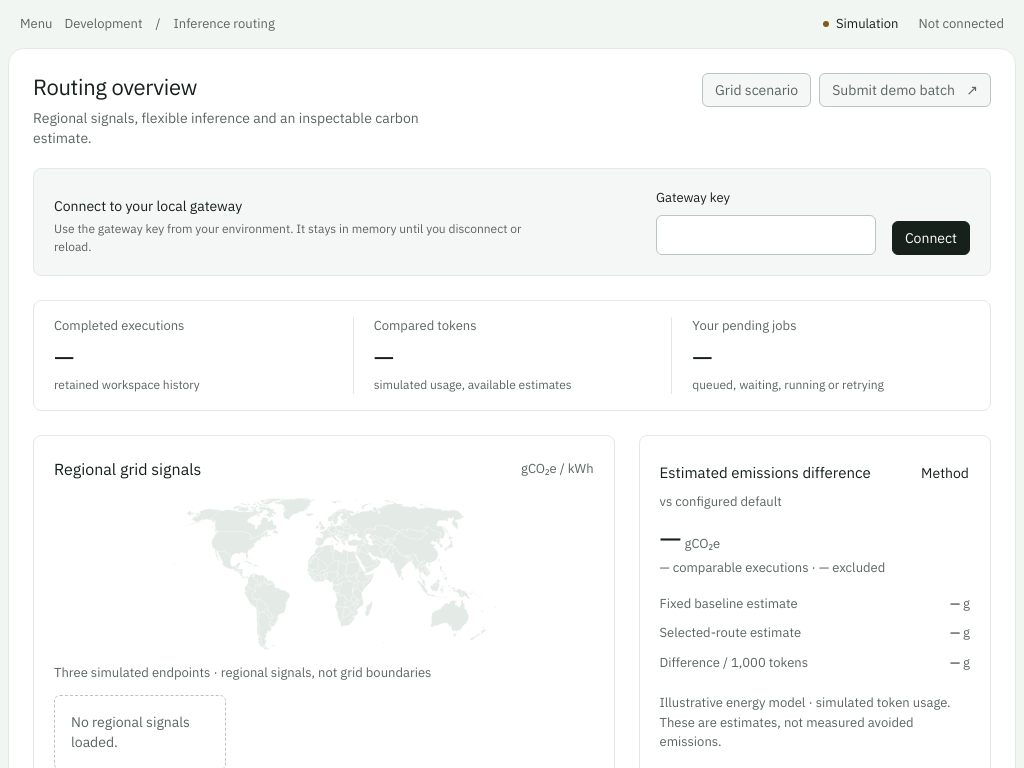
Test case: dashboard › reuses keys and bodies when a batch submission is unconfirmed
Type "test-client-key" into the password field labelled "Gateway key" at (766, 235), box [656, 215, 876, 255]
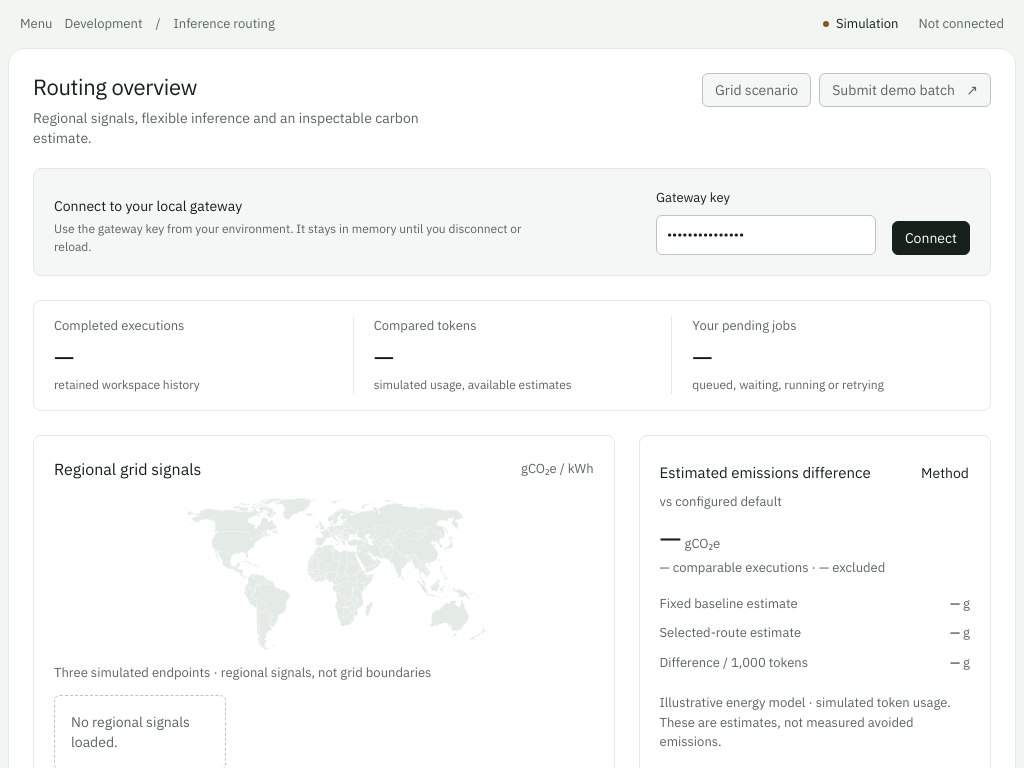
Click the button "Connect" at (931, 238), box [892, 221, 970, 255]
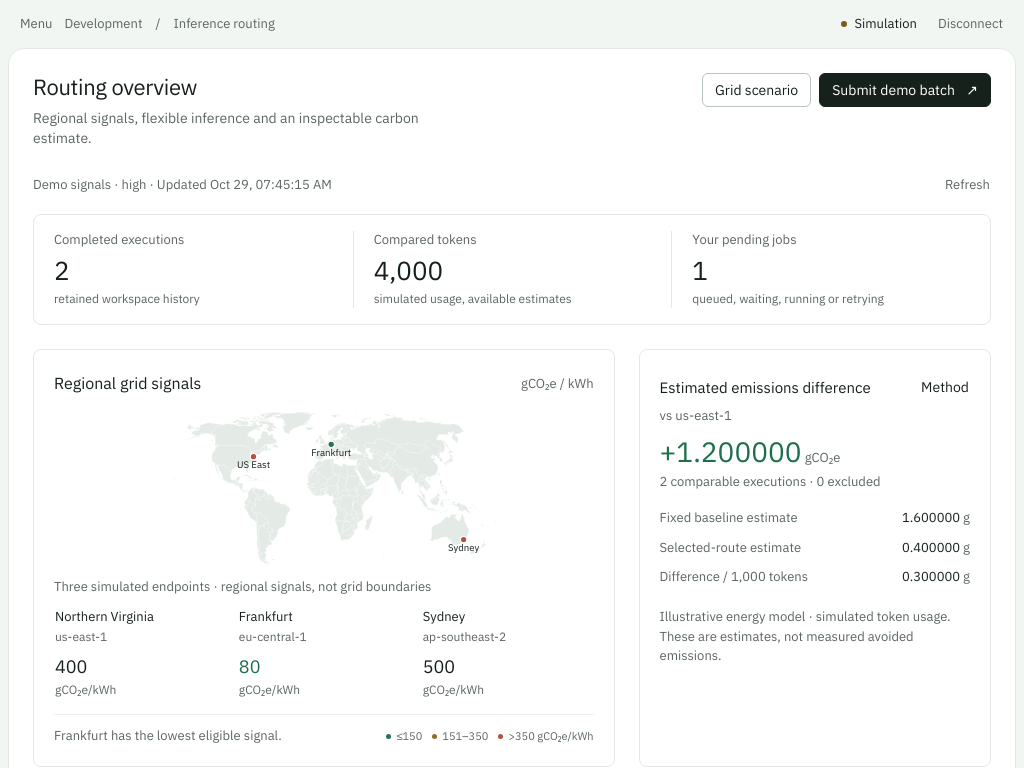
Expected: the button "Disconnect" is shown, [937, 7, 1004, 41]
Now the text "+1.200000" is shown, box [660, 433, 802, 470]
Click the button "Submit demo batch ↗" at (905, 90), box [819, 73, 991, 107]
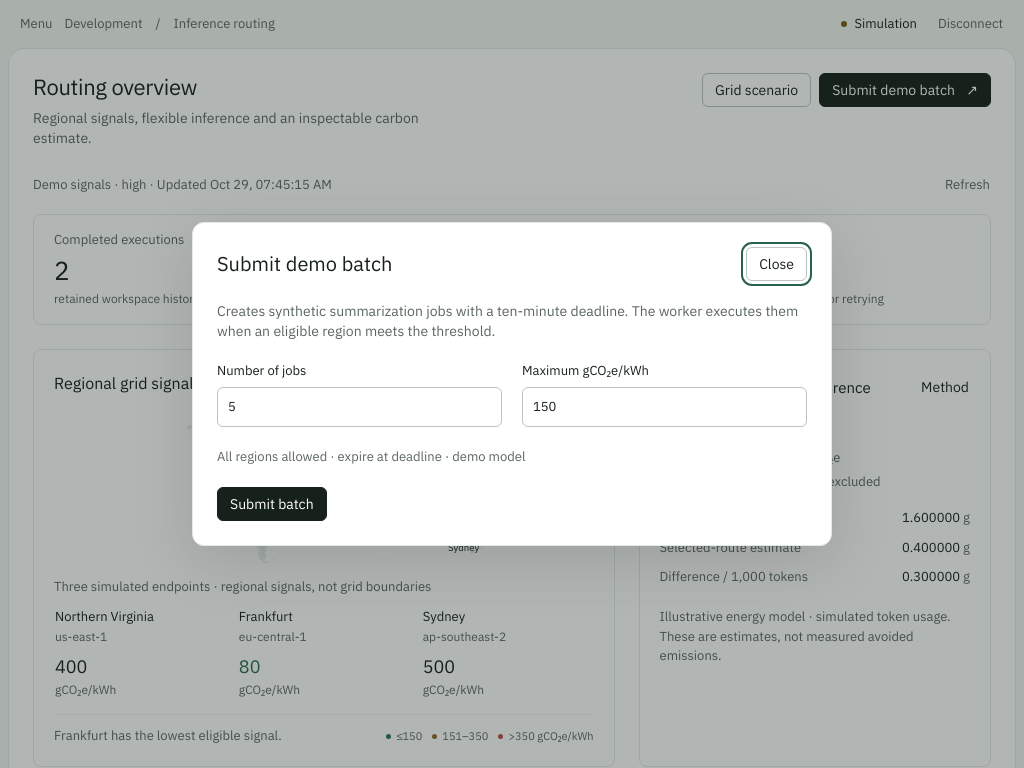
Replace the text in the number field labelled "Number of jobs" with "2" at (360, 408), box [217, 388, 502, 428]
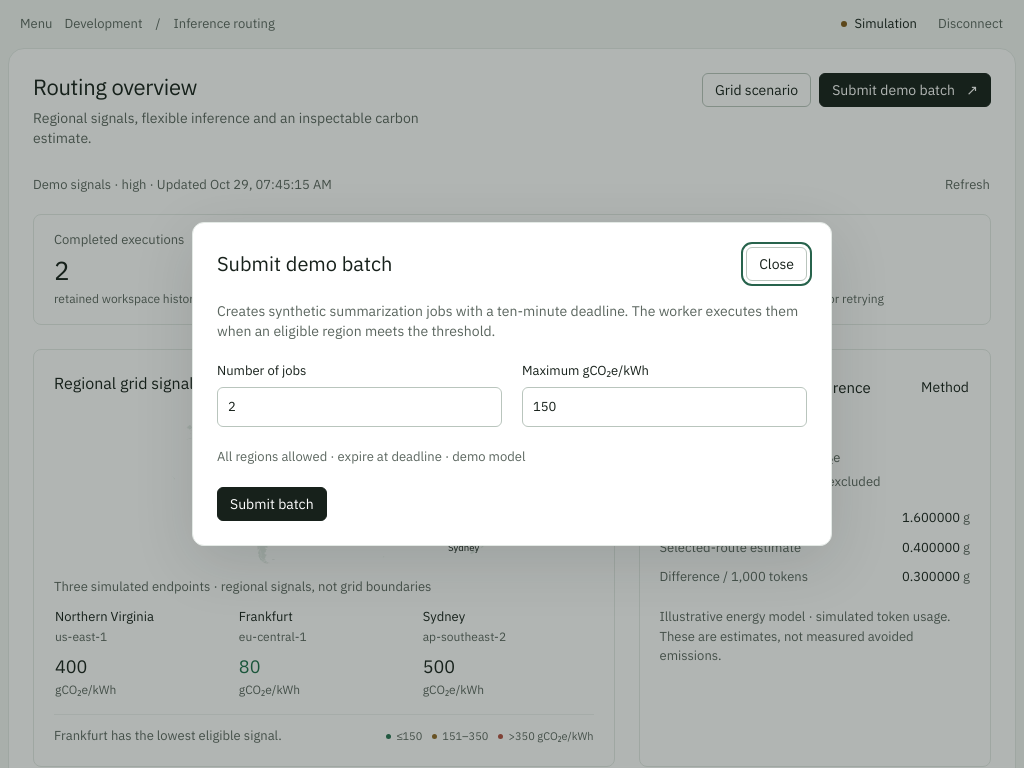
Click the button "Submit batch" at (272, 504), box [217, 487, 327, 521]
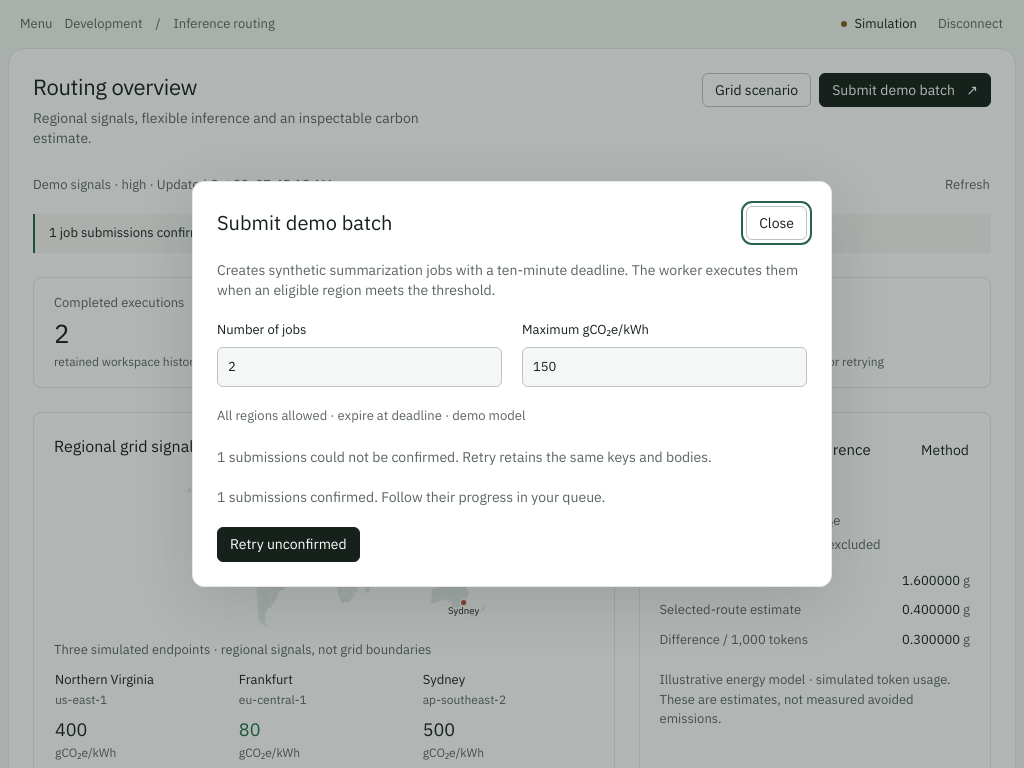
Now the button "Retry unconfirmed" is shown
Click the button "Retry unconfirmed" at (288, 544), box [217, 527, 360, 562]
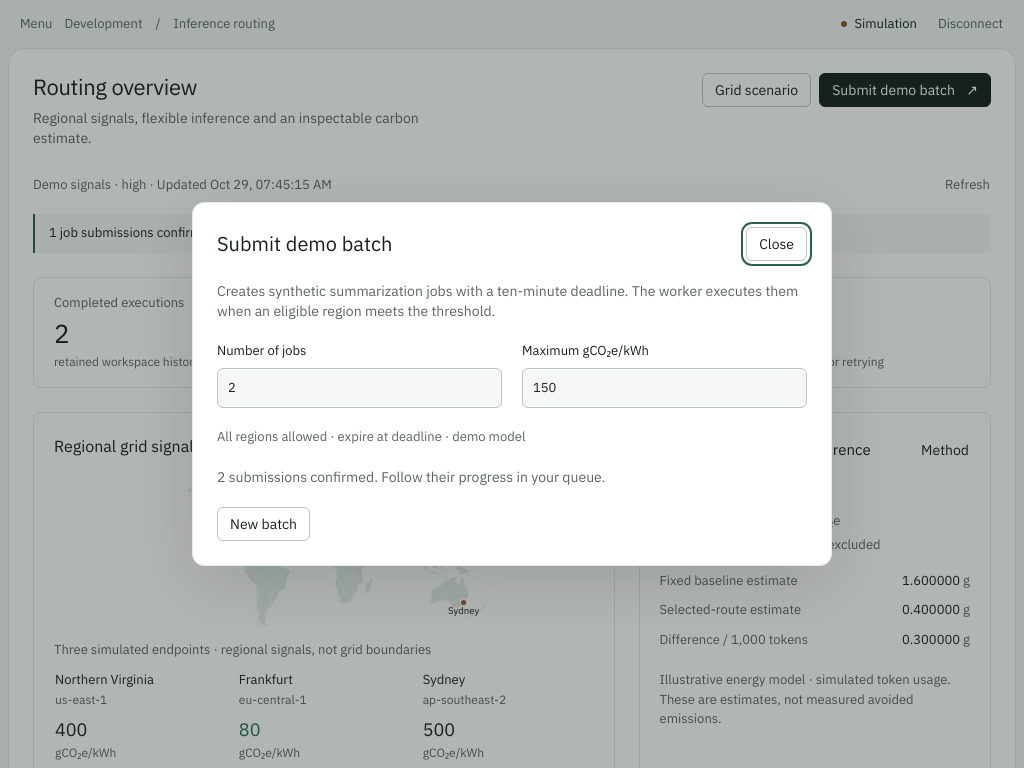
Now the text "2 submissions confirmed. Follow their progress in your queue." is shown, box [217, 468, 605, 486]
